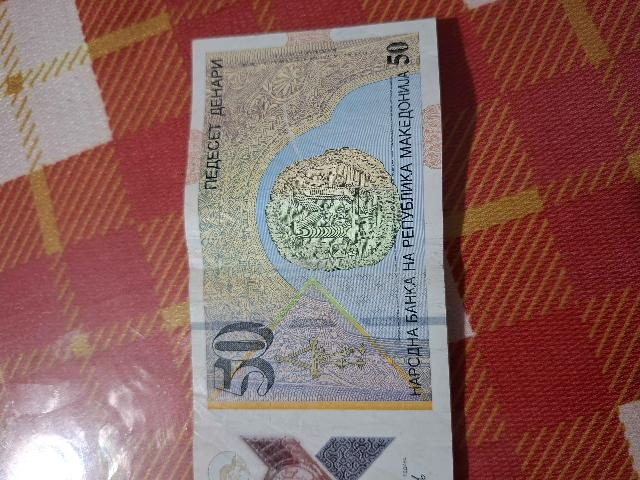note: (181, 24, 460, 479)
